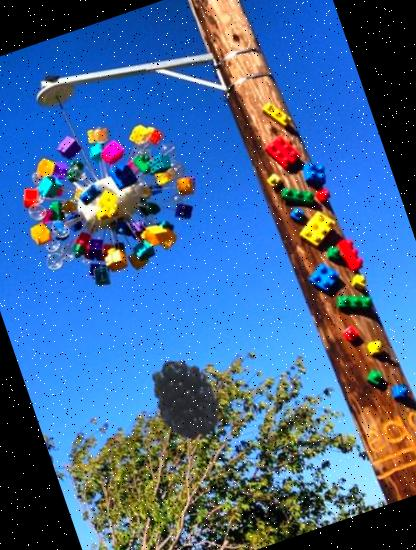Mulberry: (132, 344, 240, 452)
